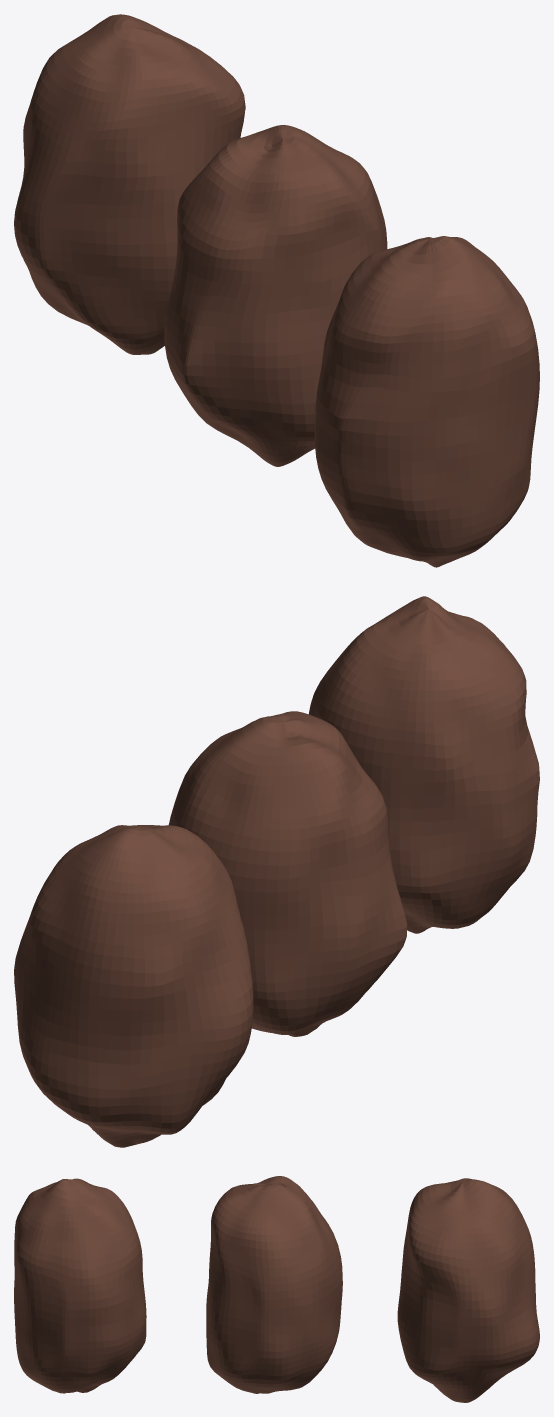
Rendered from potatos.fbx.
3 renders of one model, top to bottom at view 1: azimuth 30°, elevation 25°; view 2: azimuth 150°, elevation 25°; view 3: azimuth 270°, elevation 25°, orthographic. The views are drawn at different scales.
Visible parts, largest first — view 1: Sphere.003, Sphere.001, Sphere.002; view 2: Sphere.001, Sphere.003, Sphere.002; view 3: Sphere.001, Sphere.002, Sphere.003.
Boxes of the visible parts, x1=… form: Sphere.003: x1=314, y1=236, x2=539, y2=567; Sphere.001: x1=14, y1=14, x2=245, y2=354; Sphere.002: x1=164, y1=125, x2=387, y2=466; Sphere.001: x1=14, y1=825, x2=253, y2=1147; Sphere.003: x1=309, y1=596, x2=539, y2=933; Sphere.002: x1=168, y1=711, x2=407, y2=1036; Sphere.001: x1=397, y1=1178, x2=539, y2=1402; Sphere.002: x1=206, y1=1176, x2=342, y2=1393; Sphere.003: x1=14, y1=1178, x2=146, y2=1393.
Size of the model in its own units: 6.81 by 9.85 by 21.3.
